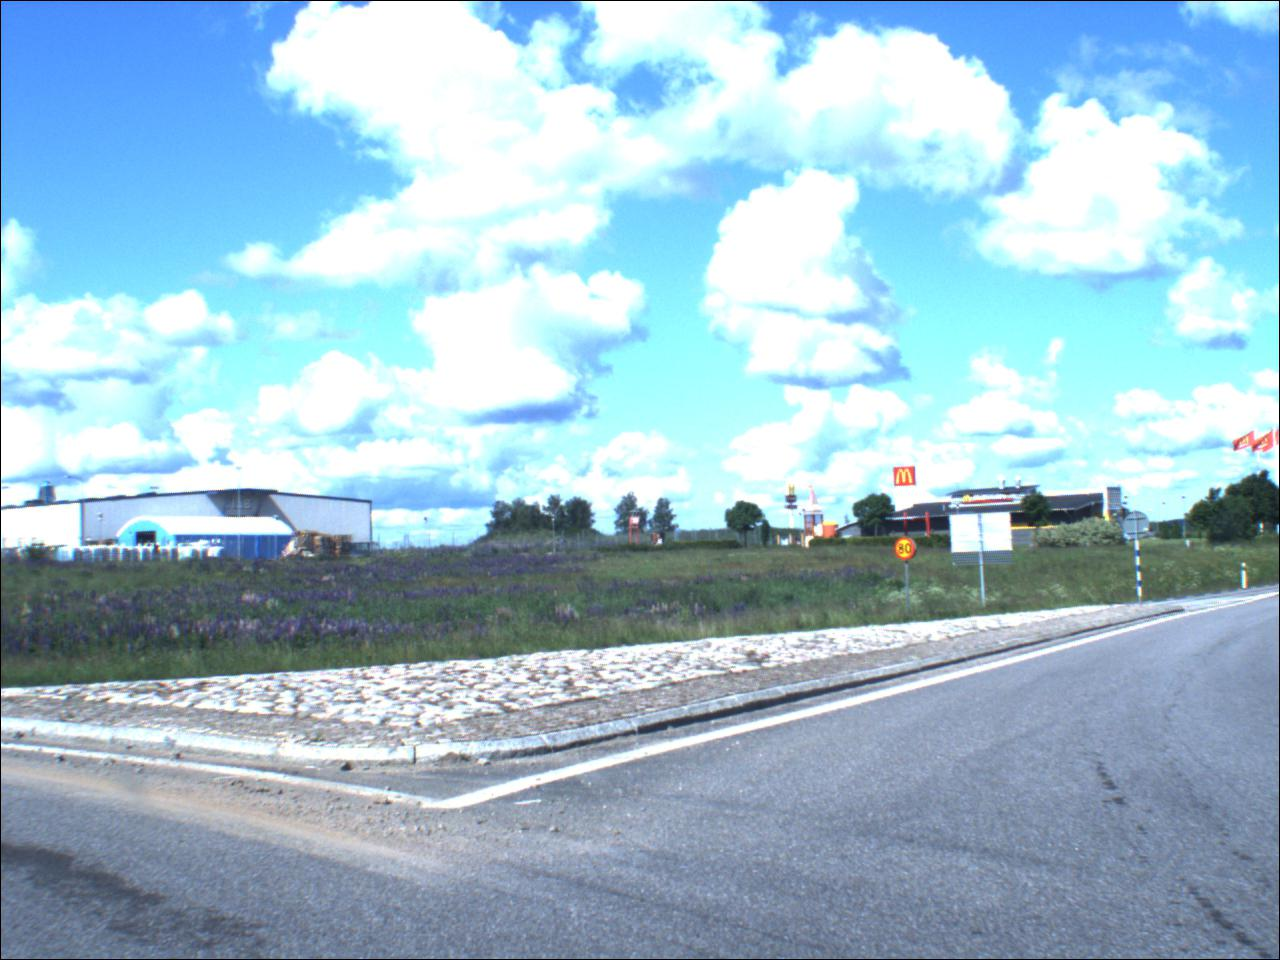80_SIGN: (894, 539, 919, 562)
